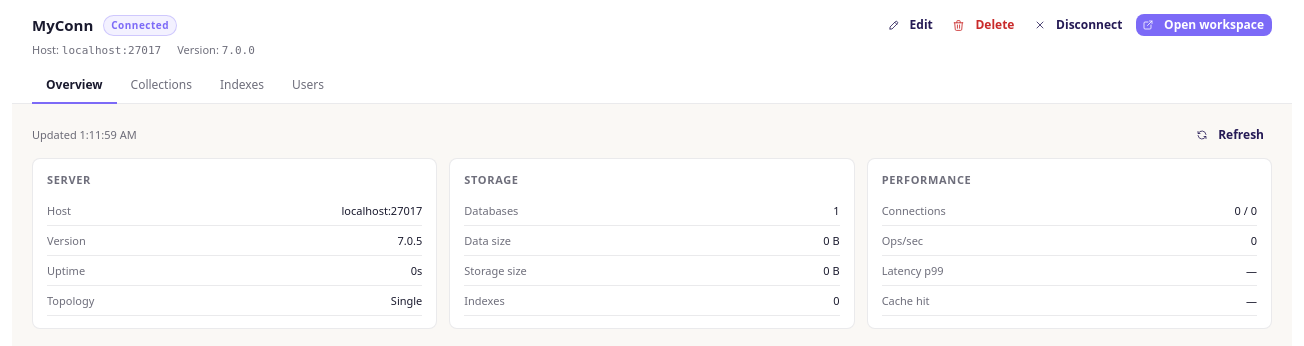
Test: DetailPanel Collections › lists dbs and loads collections on expand
The width and height of the screenshot is (1304, 346).
Click the button "Collections". click: (161, 87)
box: [116,69,206,104]
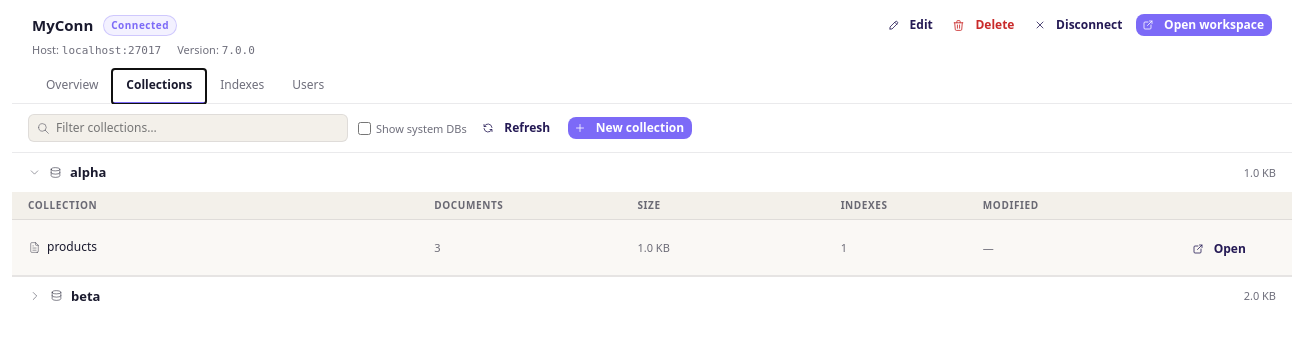
Now the text "products" is shown, box [47,238,97,257]
